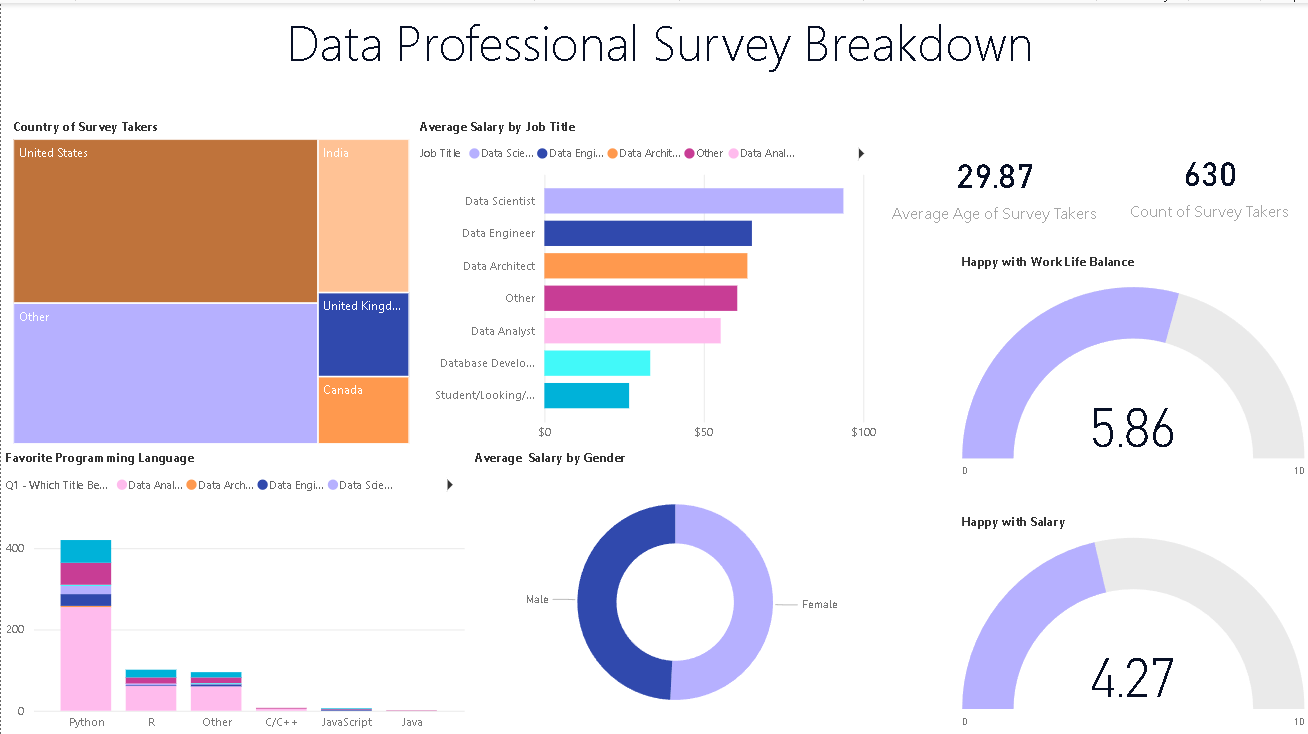

Layout of this report page (visuals, bound fields, positions):
{"tool":"powerbi","page":{"name":"Page 1","canvas":[1280,720],"ordinal":0},"visuals":[{"type":"textbox","box":[8.2,0,1272,109.8],"z":0},{"type":"card","fields":{"Values":["Count(Data Professional Survey.Unique ID)"]},"box":[1084.3,109.7,196,131.9],"z":1000},{"type":"card","fields":{"Values":["Avg(Data Professional Survey.Q10 - Current Age)"]},"box":[860.9,112.3,223.4,131.9],"z":2000},{"type":"barChart","title":"Average Salary by Job Title ","fields":{"Category":["Data Professional Survey.Q1 - Which Title Best Fits your Current Role?.1"],"Y":["Avg(Data Professional Survey.Avg Salary)"],"Series":["Data Professional Survey.Q1 - Which Title Best Fits your Current Role?.1"]},"box":[405,112.3,455.9,324],"z":3000},{"type":"columnChart","title":"Favorite Programming Language ","fields":{"Category":["Data Professional Survey.Q5 - Favorite Programming Language.1"],"Y":["CountNonNull(Data Professional Survey.Unique ID)"],"Series":["Data Professional Survey.Q1 - Which Title Best Fits your Current Role?.1"]},"box":[0,436.3,458.5,283.5],"z":4000},{"type":"treemap","title":"Country of Survey Takers","fields":{"Group":["Data Professional Survey.Q11 - Which Country do you live in?.1"],"Values":["CountNonNull(Data Professional Survey.Q11 - Which Country do you live in?.1)"]},"box":[7.8,112.3,397.1,324],"z":5000},{"type":"gauge","title":"Happy with Work Life Balance","fields":{"Y":["Avg(Data Professional Survey.Q6 - How Happy are you in your Current Position with the following? (Coworkers))"],"MinValue":["Min(Data Professional Survey.Q6 - How Happy are you in your Current Position with the following? (Coworkers))1"],"MaxValue":["Max(Data Professional Survey.Q6 - How Happy are you in your Current Position with the following? (Coworkers))2"]},"box":[935.4,244.3,344.9,239.1],"z":5001},{"type":"gauge","title":"Happy with Salary","fields":{"Y":["Avg(Data Professional Survey.Q6 - How Happy are you in your Current Position with the following? (Salary))"],"MinValue":["Min(Data Professional Survey.Q6 - How Happy are you in your Current Position with the following? (Salary))1"],"MaxValue":["Max(Data Professional Survey.Q6 - How Happy are you in your Current Position with the following? (Salary))2"]},"box":[935.4,499,344.9,220.8],"z":5002},{"type":"donutChart","title":"Average  Salary by Gender","fields":{"Category":["Data Professional Survey.Q9 - Male/Female?"],"Y":["Avg(Data Professional Survey.Avg Salary)"]},"box":[458.5,436.3,402.4,283.5],"z":5003}]}

Visuals, with their boxes in screenshot pixels (x1, y1, x2, y2), scaled from the page's 1280x720 canvas onto the 1308x734 screenshot:
textbox: l=8, t=0, r=1307, b=112
card - Count(Data Professional Survey.Unique ID): l=1108, t=112, r=1307, b=246
card - Avg(Data Professional Survey.Q10 - Current Age): l=880, t=114, r=1108, b=249
"Average Salary by Job Title " barChart: l=414, t=114, r=880, b=445
"Favorite Programming Language " columnChart: l=0, t=445, r=469, b=733
"Country of Survey Takers" treemap: l=8, t=114, r=414, b=445
"Happy with Work Life Balance" gauge: l=956, t=249, r=1307, b=493
"Happy with Salary" gauge: l=956, t=509, r=1307, b=733
"Average  Salary by Gender" donutChart: l=469, t=445, r=880, b=733
